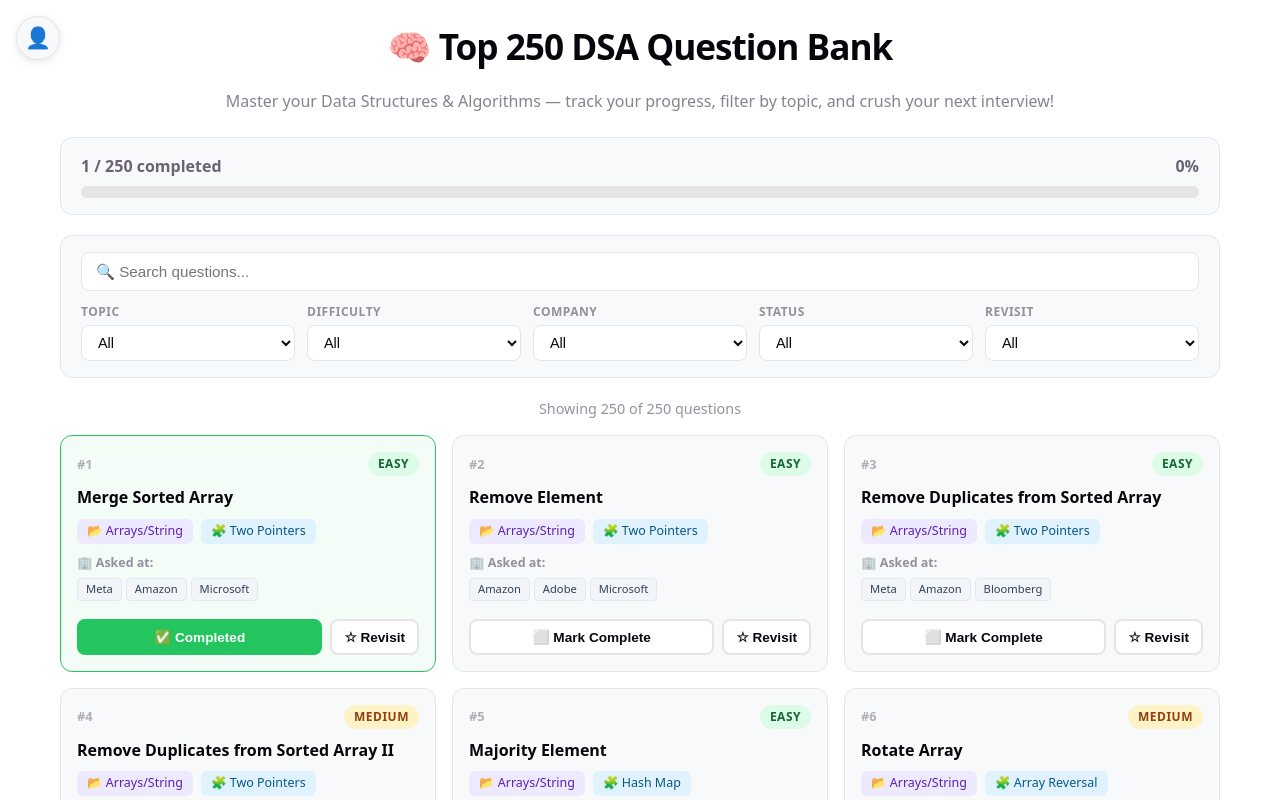
Test: App › toggles question favorite for revisit
This screenshot has width=1280, height=800.
Click the button "☆ Revisit" below "Merge Sorted Array" at [375, 637], box top-left (330, 619), bottom-right (419, 655)
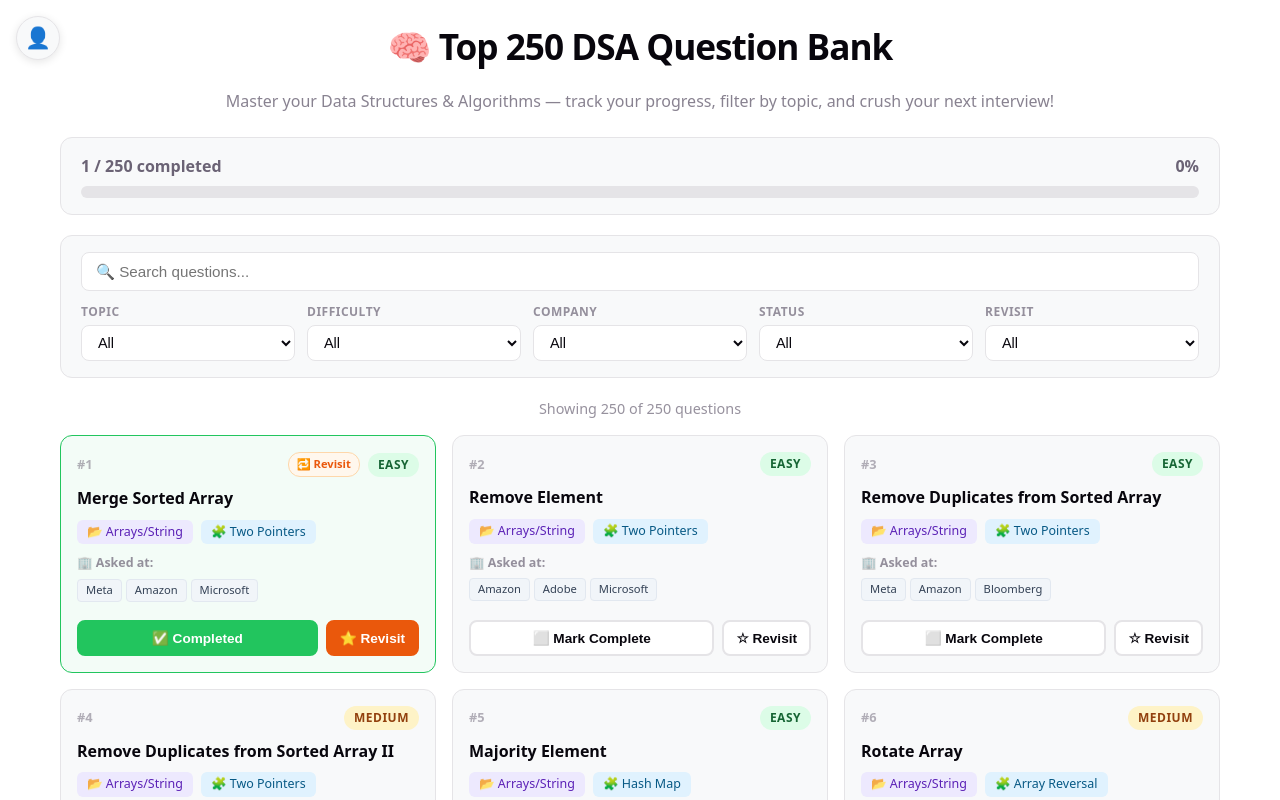
Check: the button "⭐ Revisit" is shown, box top-left (326, 620), bottom-right (419, 656)
